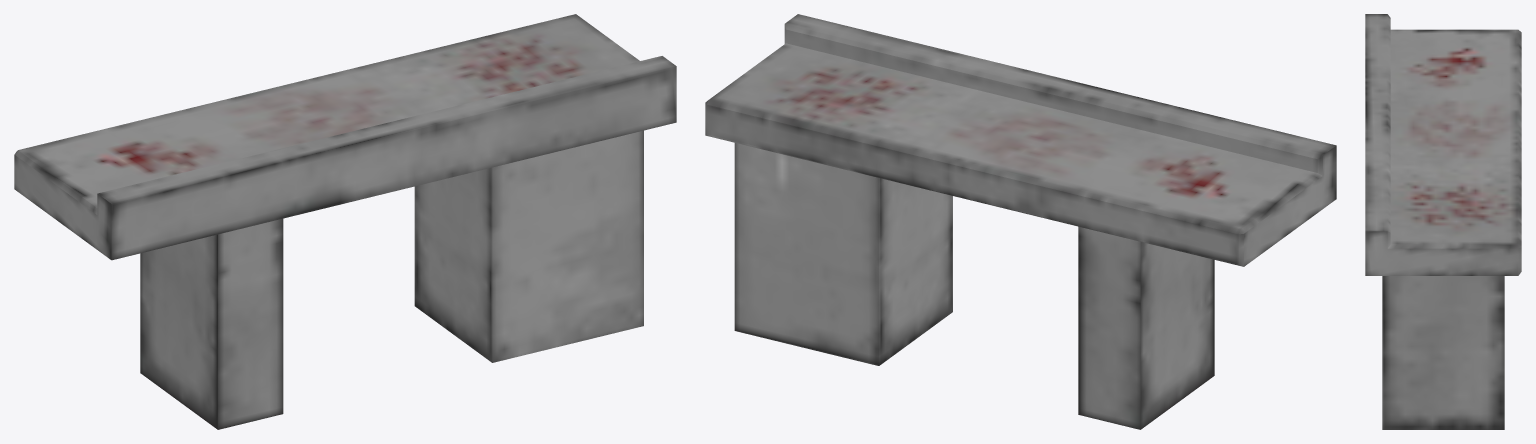
The model's file is lab_counter.d057d5bfe3.glb.
3 renders of one model, left to right at view 1: azimuth 30°, elevation 25°; view 2: azimuth 150°, elevation 25°; view 3: azimuth 270°, elevation 25°, orthographic. The views are drawn at different scales.
Visible parts, largest first — view 1: lab_counter; view 2: lab_counter; view 3: lab_counter.
Boxes of the visible parts, left/top/right/bottom form: lab_counter: left=14, top=14, right=676, bottom=429; lab_counter: left=705, top=14, right=1336, bottom=429; lab_counter: left=1365, top=14, right=1521, bottom=429.
Size of the model in its own units: 2 by 0.8892 by 0.6083.
1 material, 1 textured.
